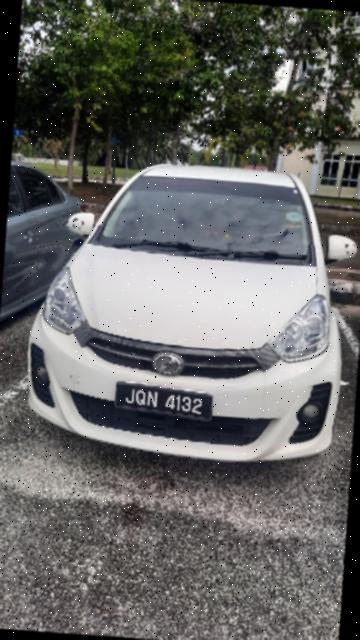License_Plate: (113, 378, 223, 427)
car: (16, 145, 360, 473)
